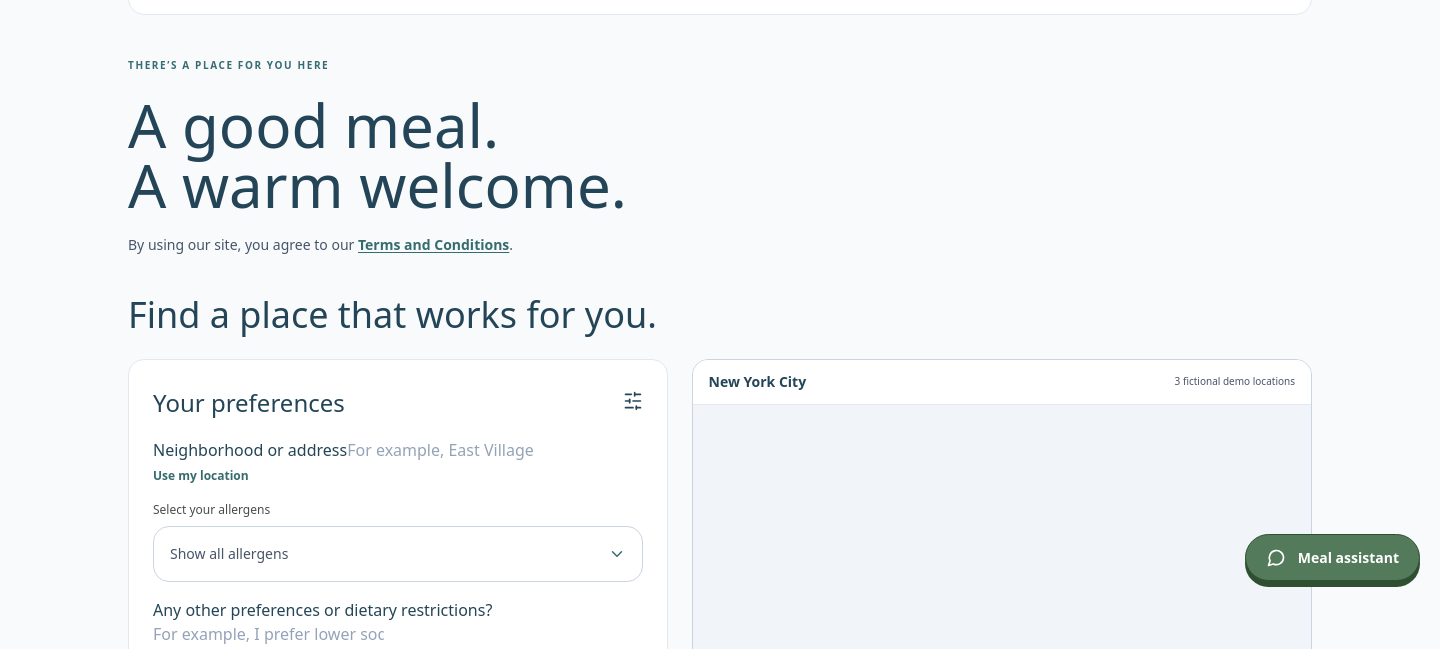
Test: meal preferences › applies matches and clears the preference filter
Type "cant eat cold fooood" into the field labelled "Any other preferences or dietary restrictions?" at (268, 634), box [153,622,384,646]
(page scrolled)
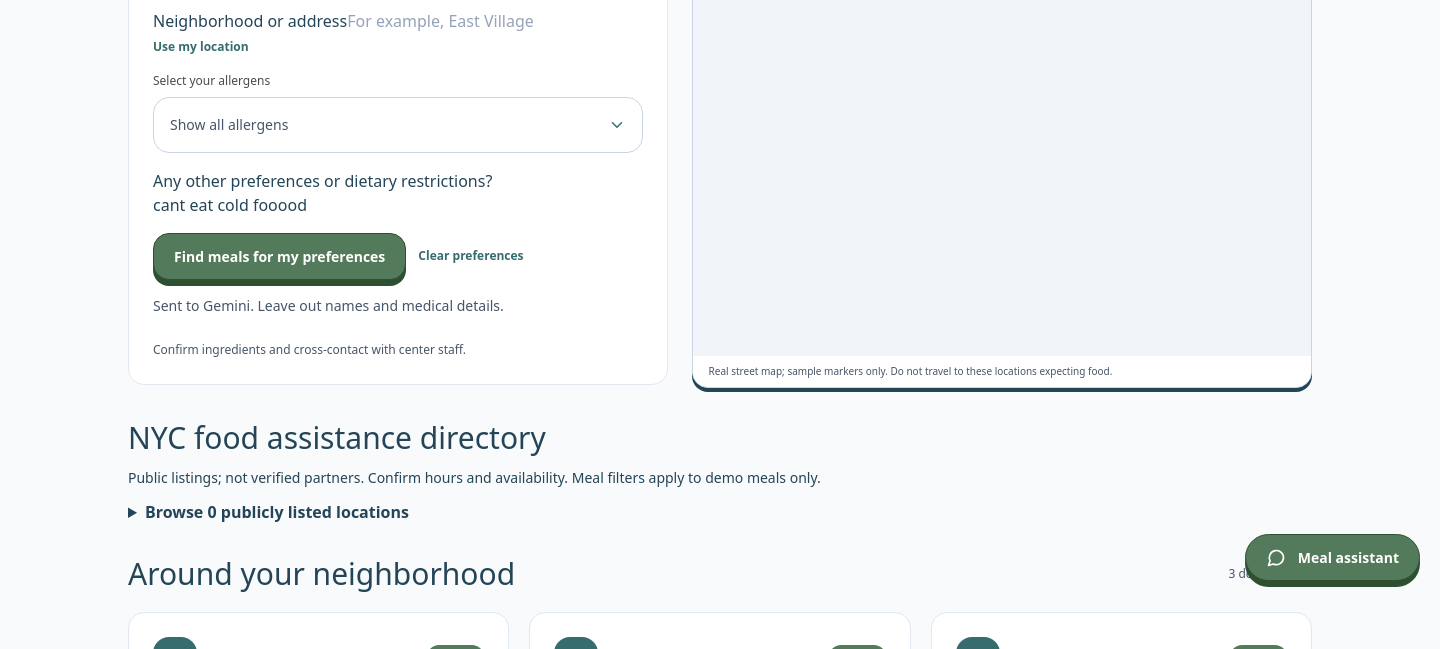
Click the button "Find meals for my preferences" at (280, 256), box [153,232,406,280]
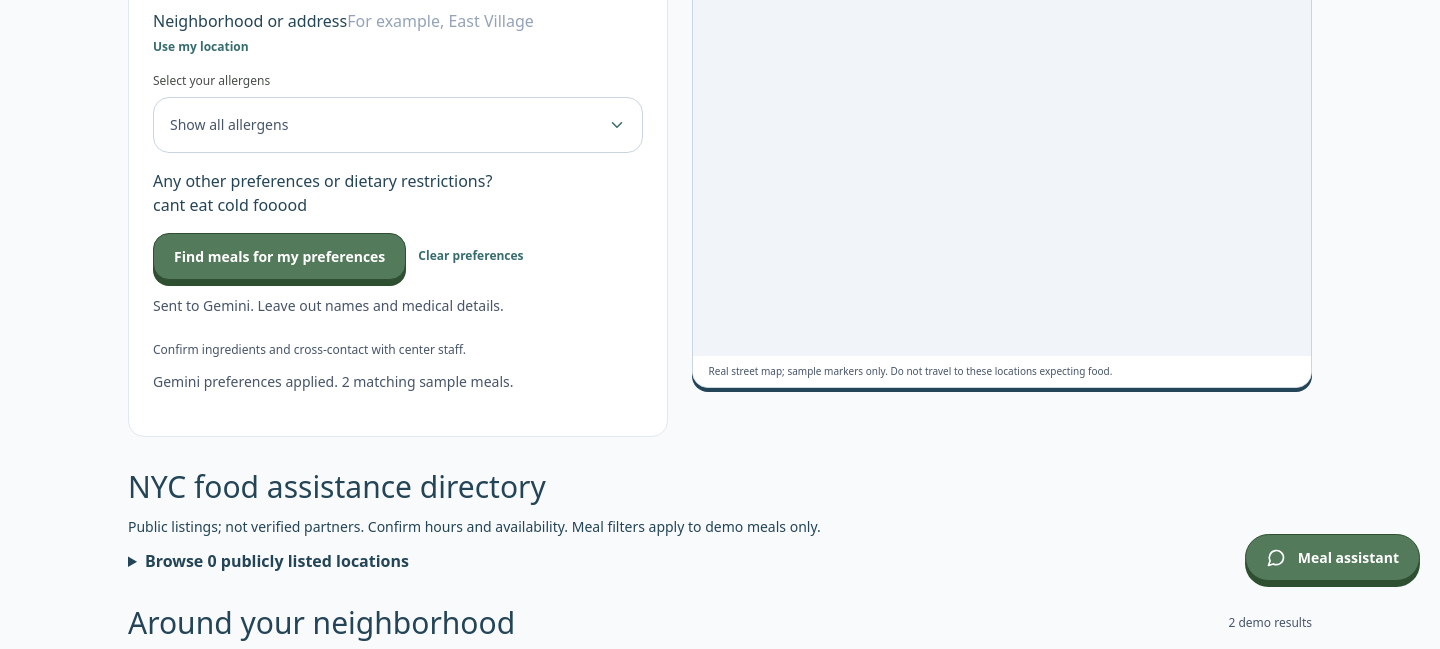
expect the text "Gemini preferences applied. 2 matching sample meals." is shown: met, box [153,372,514,390]
Click the button "Clear preferences" at (471, 256), box [418,232,524,280]
(page scrolled)
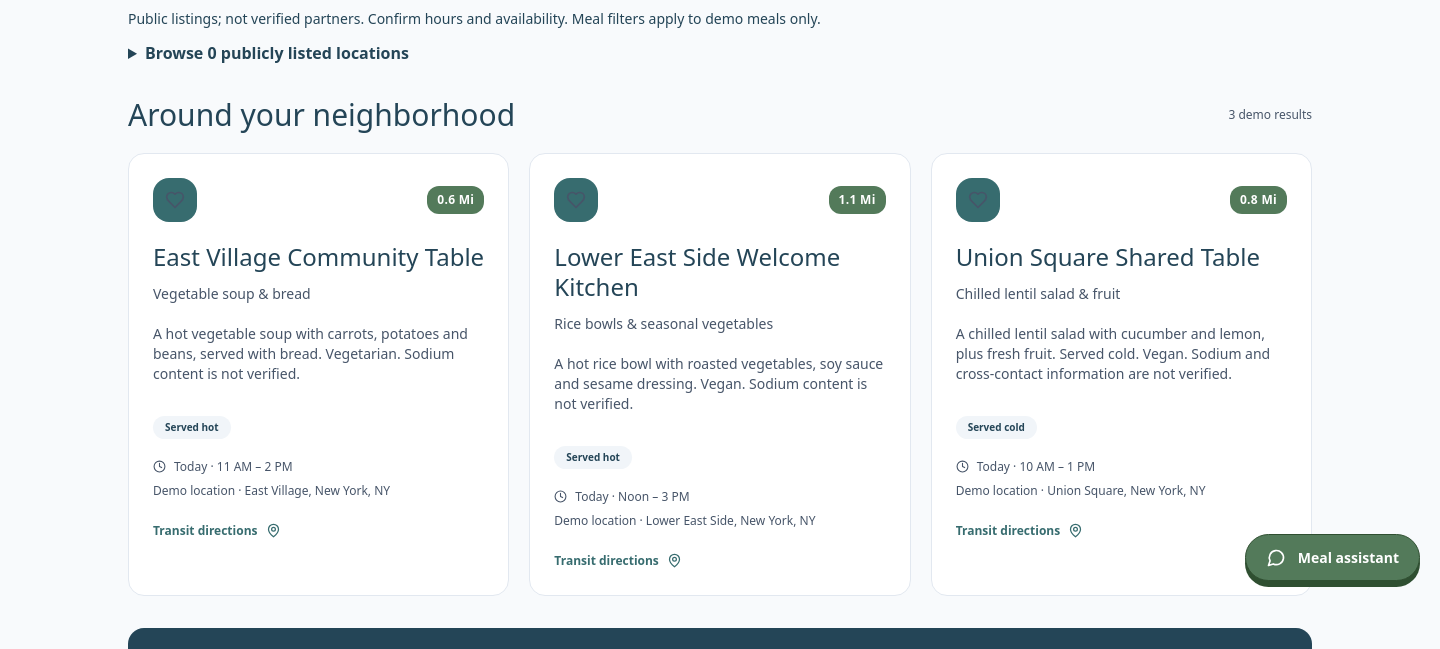
expect the heading "Union Square Shared Table" is shown: met, box [956,242,1287,272]
